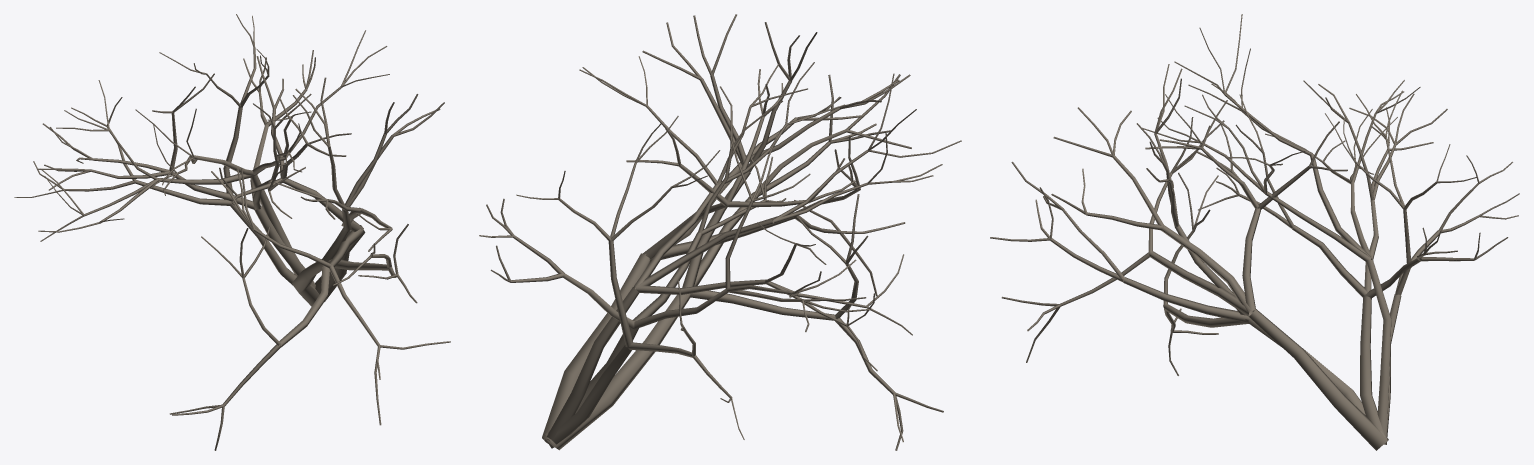
File: desert_brush_2.glb
3 renders of one model, left to right at view 1: azimuth 30°, elevation 25°; view 2: azimuth 150°, elevation 25°; view 3: azimuth 270°, elevation 25°, orthographic. The views are drawn at different scales.
Visible parts, largest first — view 1: DesertBrush_Twigs; view 2: DesertBrush_Twigs; view 3: DesertBrush_Twigs.
Part boxes in pixels (x1,y1,x2,y2): DesertBrush_Twigs: [14, 14, 450, 450]; DesertBrush_Twigs: [479, 14, 961, 450]; DesertBrush_Twigs: [990, 14, 1519, 450].
Size of what is drawn, in the model's own units: 0.6619 by 0.6768 by 0.9207.
